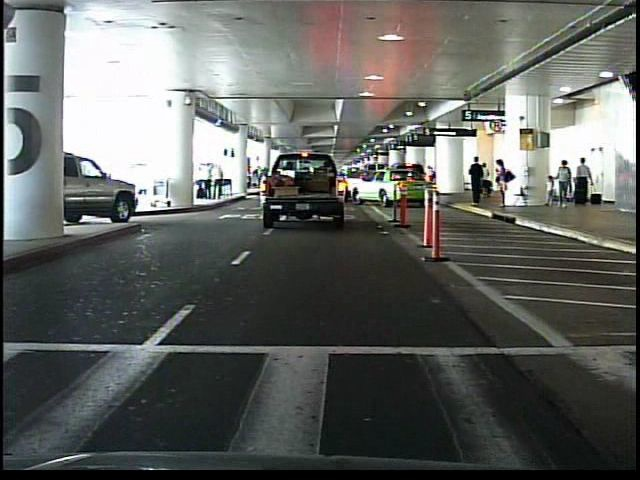person: (494, 156, 515, 212), (468, 154, 487, 206), (482, 158, 495, 205)
